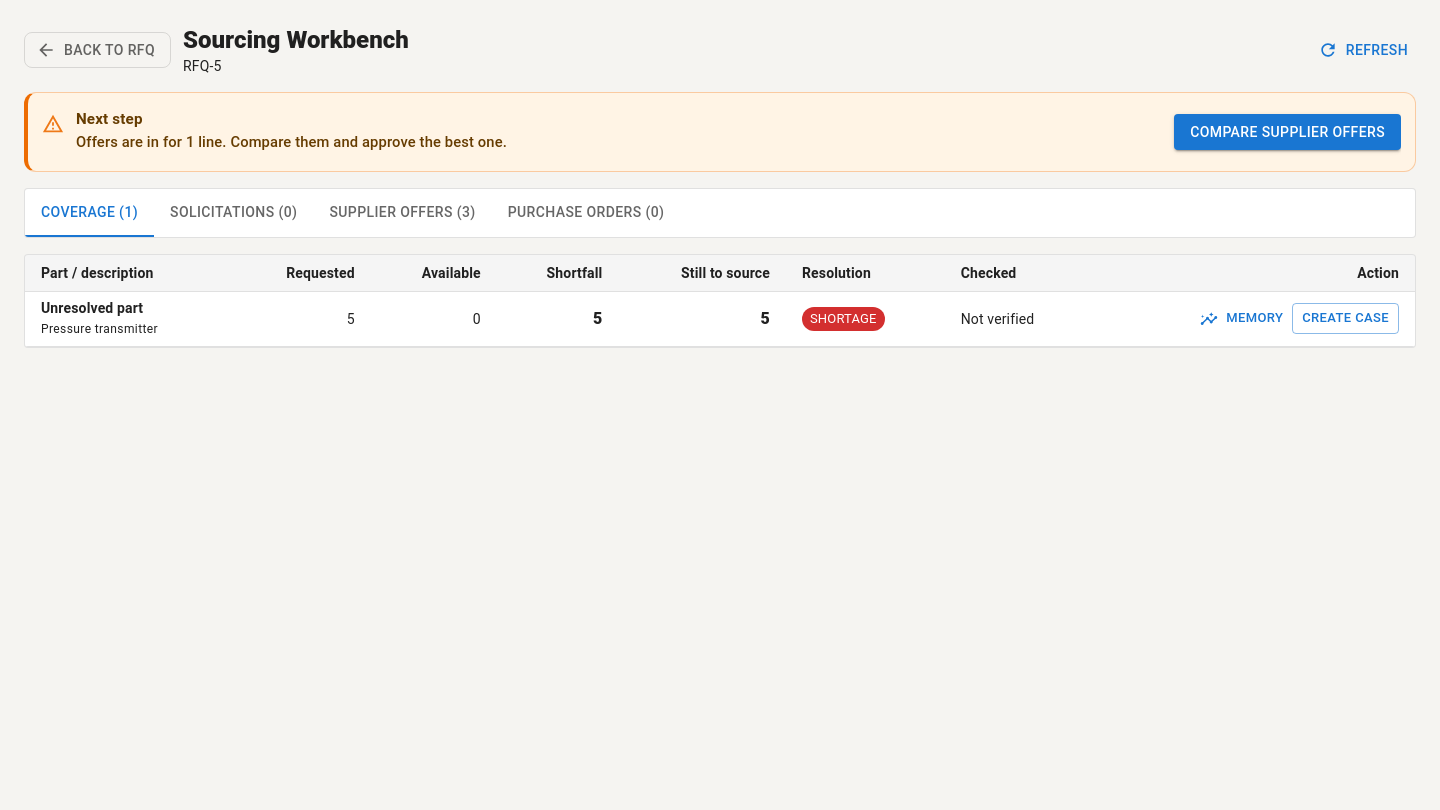
it: the supplier comparison table › never tells a blocked offer it can still be awarded
What coordinates should you click on to do the following:
click the tab "Supplier offers (3)"
I would click on:
 (402, 213)
Its box is [313,189,492,237].
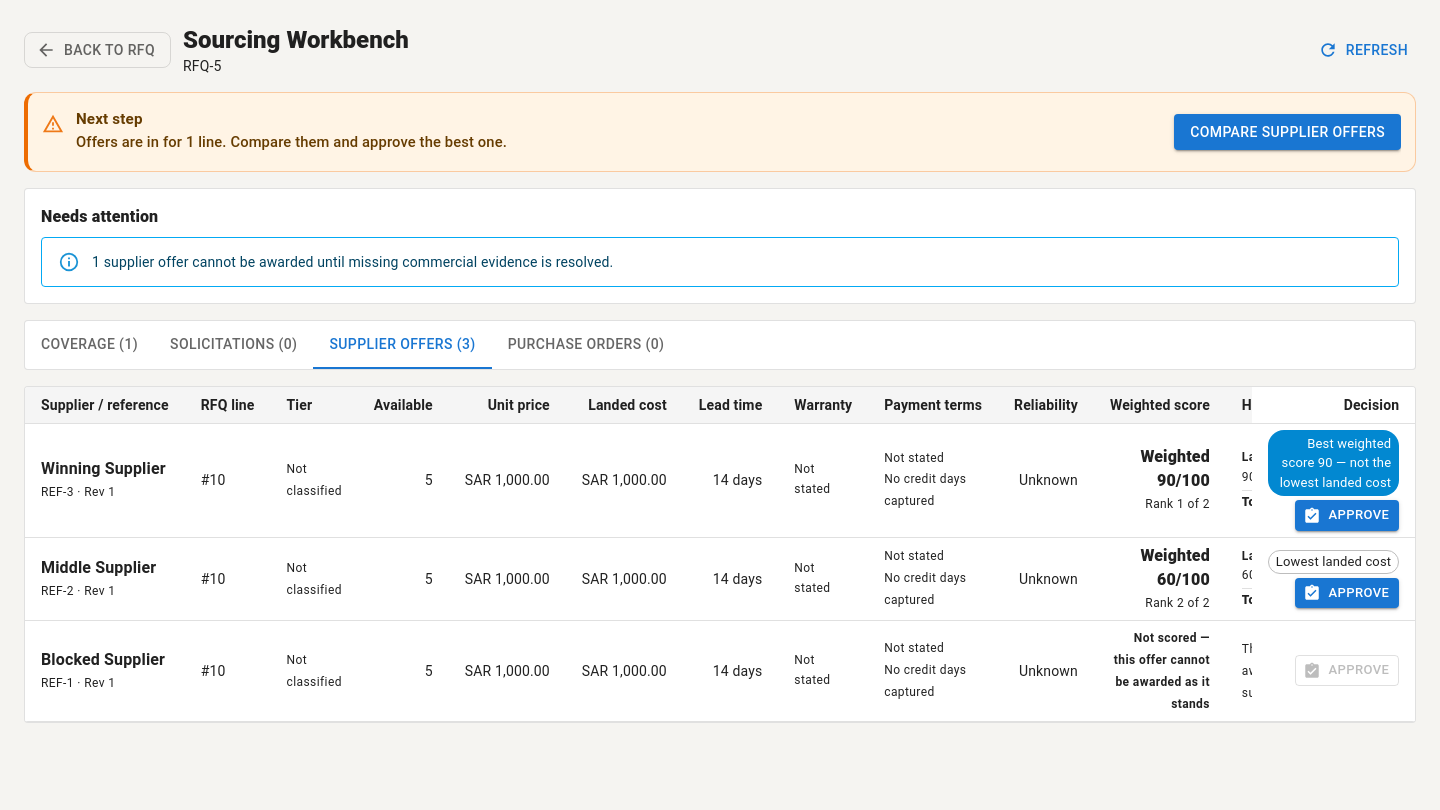
Check: the text "Blocked Supplier" shows "cannot be awarded as it stands", box [1114,631,1210,711]
